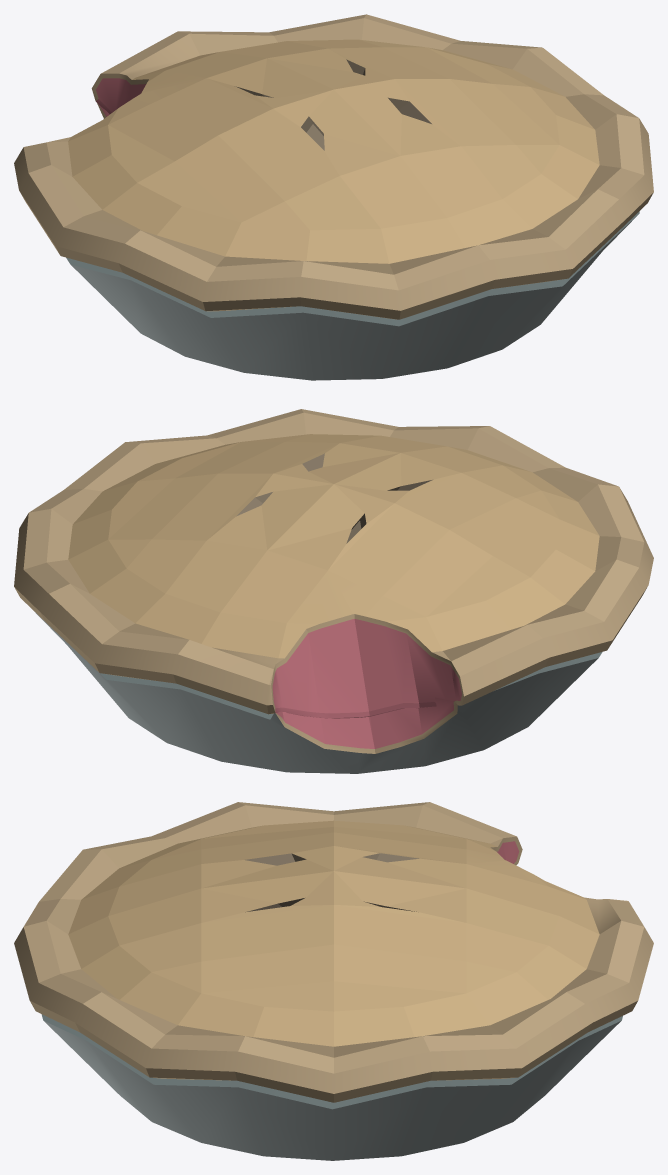
Rendered from F_Pie.fbx.
3 views of the same model, one above another, from view 1: azimuth 30°, elevation 25°; view 2: azimuth 150°, elevation 25°; view 3: azimuth 270°, elevation 25° (orthographic).
Parts seen in each view (by area): view 1: polySurface1, polySurface2; view 2: polySurface1, polySurface2; view 3: polySurface1, polySurface2.
Boxes of the visible parts, box(x1,y1,x2,y2) form: polySurface1: box(14, 14, 653, 319); polySurface2: box(66, 103, 639, 380); polySurface1: box(14, 409, 653, 718); polySurface2: box(35, 612, 602, 773); polySurface1: box(14, 802, 653, 1102); polySurface2: box(41, 1014, 622, 1160).
Size of the model in its own units: 15.55 by 5.23 by 15.55.
